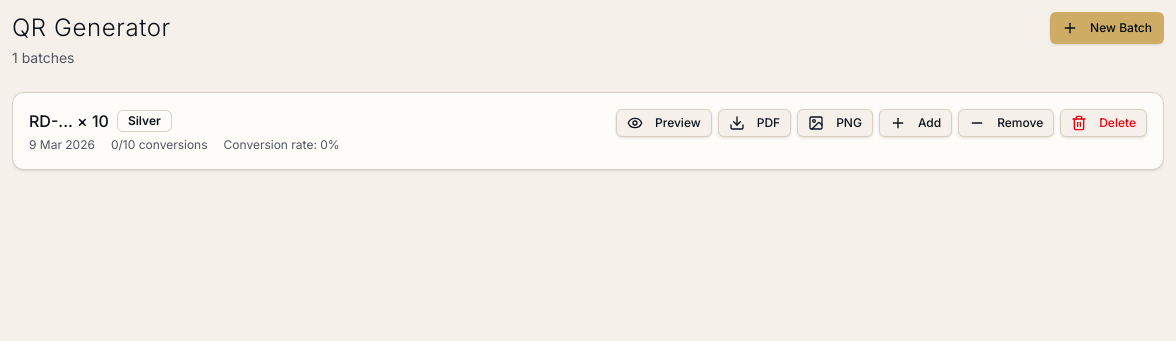
Test: AdminQrGeneratorPage › clicking Remove shows inline form with warning and count input
What coordinates should you click on to do the following:
click the button "Remove"
I would click on:
 (1006, 123)
Its box is [958,109,1054,137].
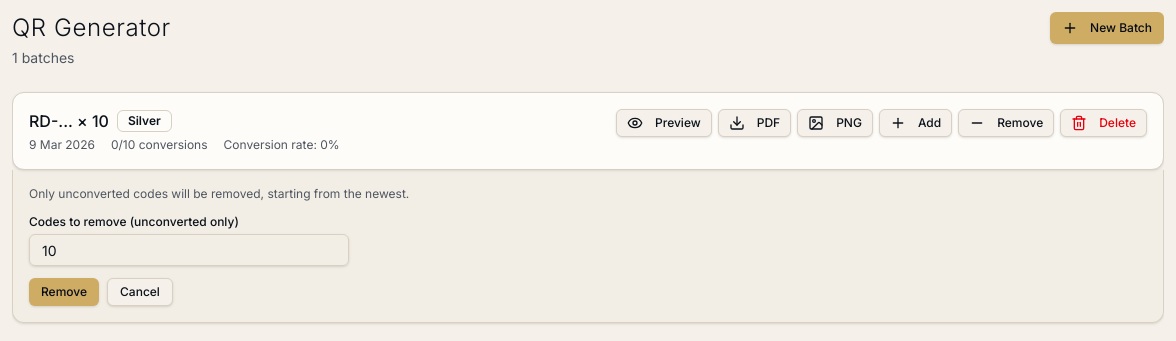
Expected: the text "Only unconverted codes will be removed, starting from the newest." is shown, [29,186,409,201]
Expected: the text "Codes to remove (unconverted only)" is shown, [29,214,239,229]
